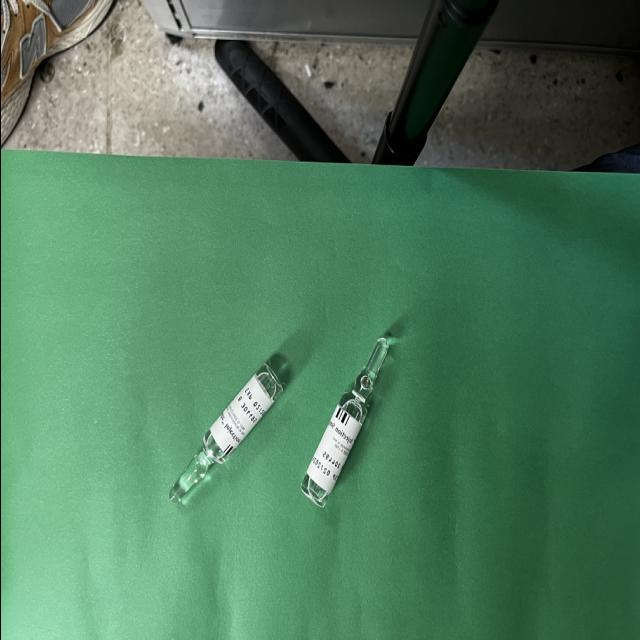Ampoules: (170, 364, 282, 501), (300, 337, 388, 507)
